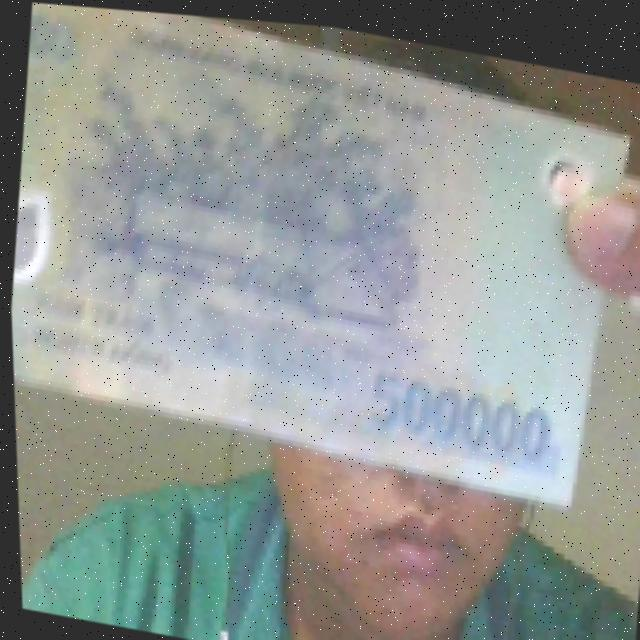500 000 VND: (0, 0, 640, 516)
